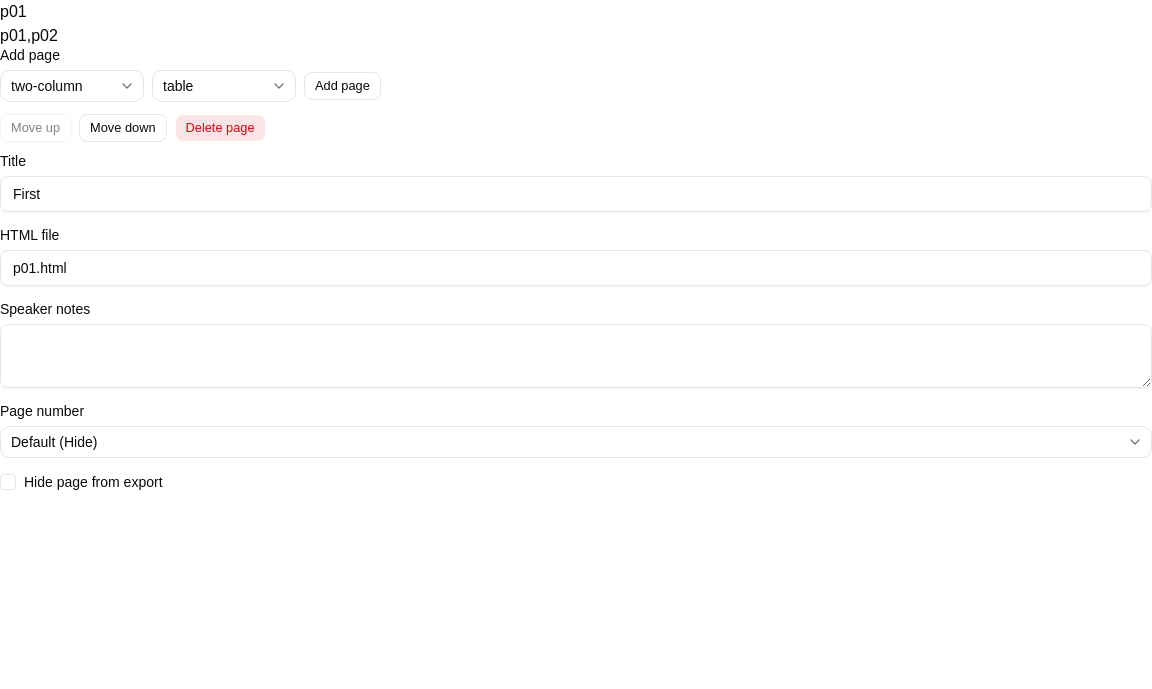
Scenario: workshop page lifecycle › restores a removed metric with Add metric
Click the dropdown named "Add page" at [72, 86], box [0,70,144,102]
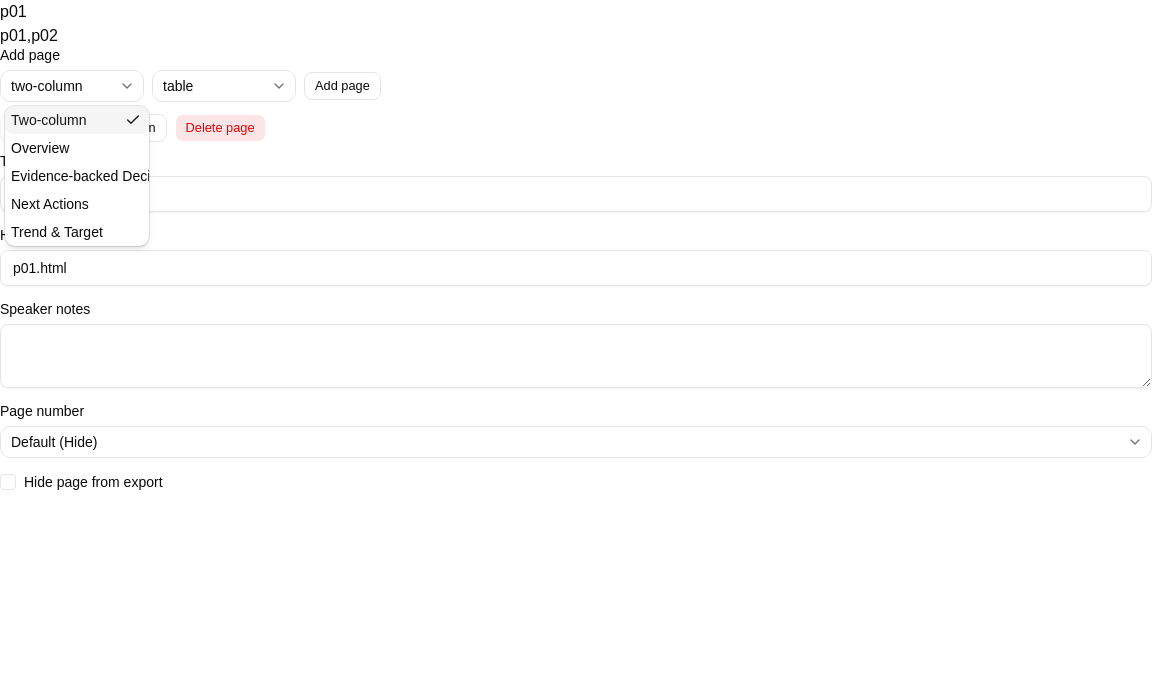
Click the option "Evidence-backed Decision" at [94, 176], box [11,168,176,184]
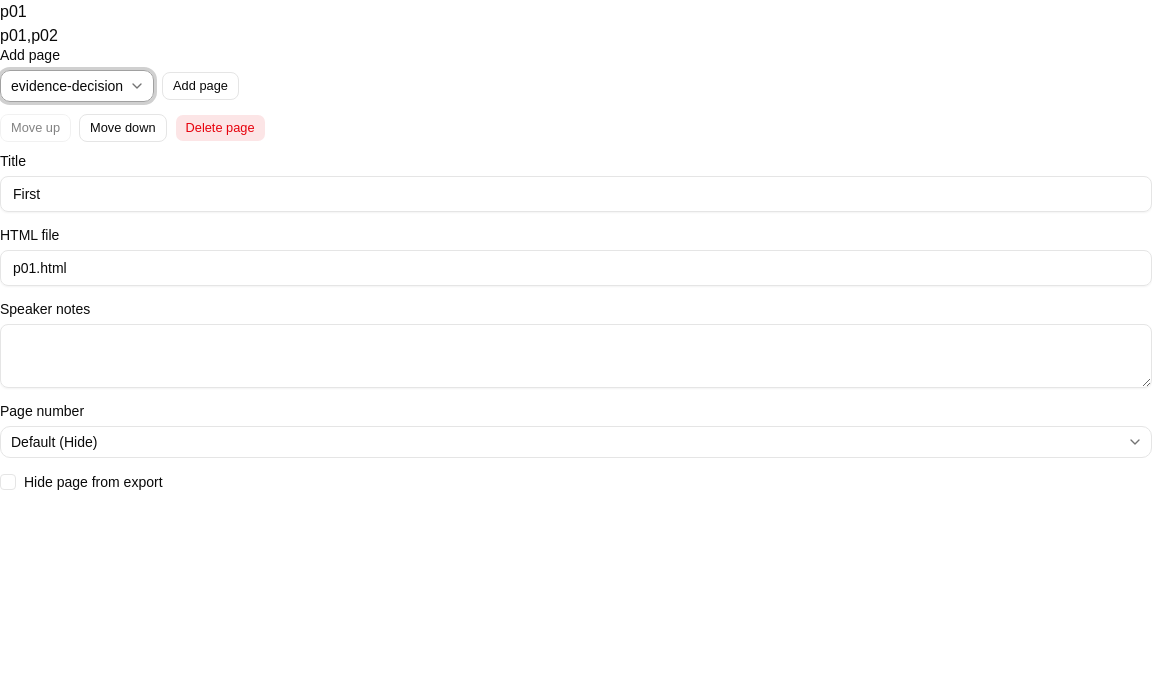
Click the button "Add page" at [200, 86], box [162,72,239,100]
(page scrolled)
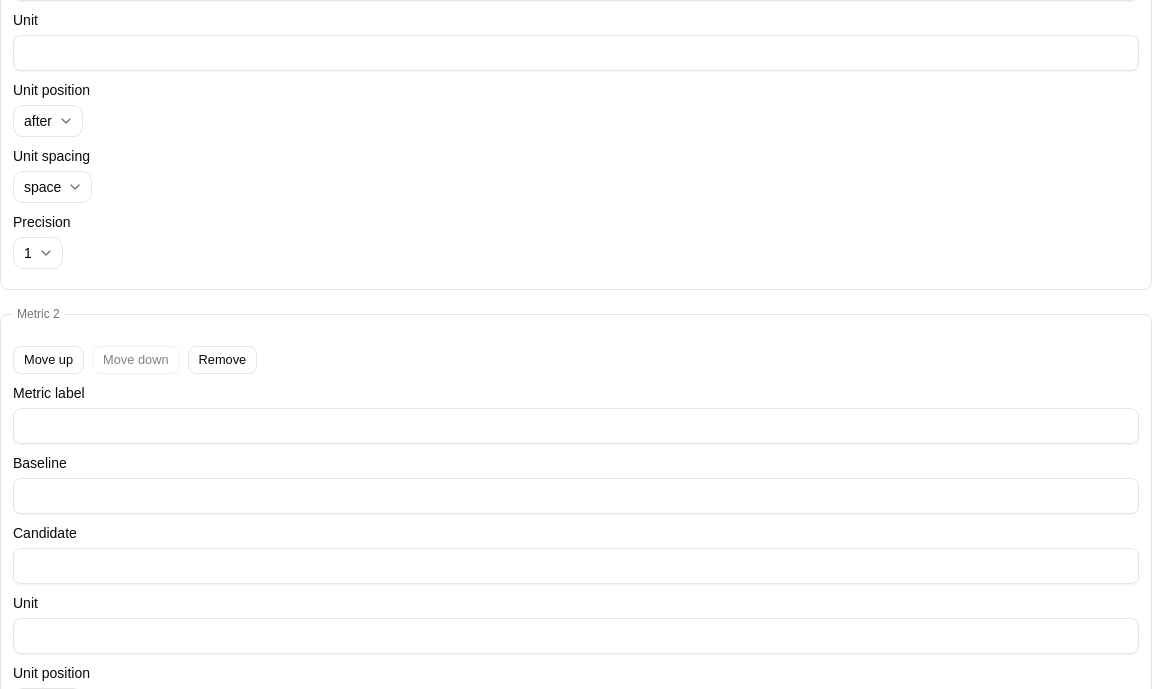
Click the button "Remove" at [222, 360], box [188,346,257,374]
(page scrolled)
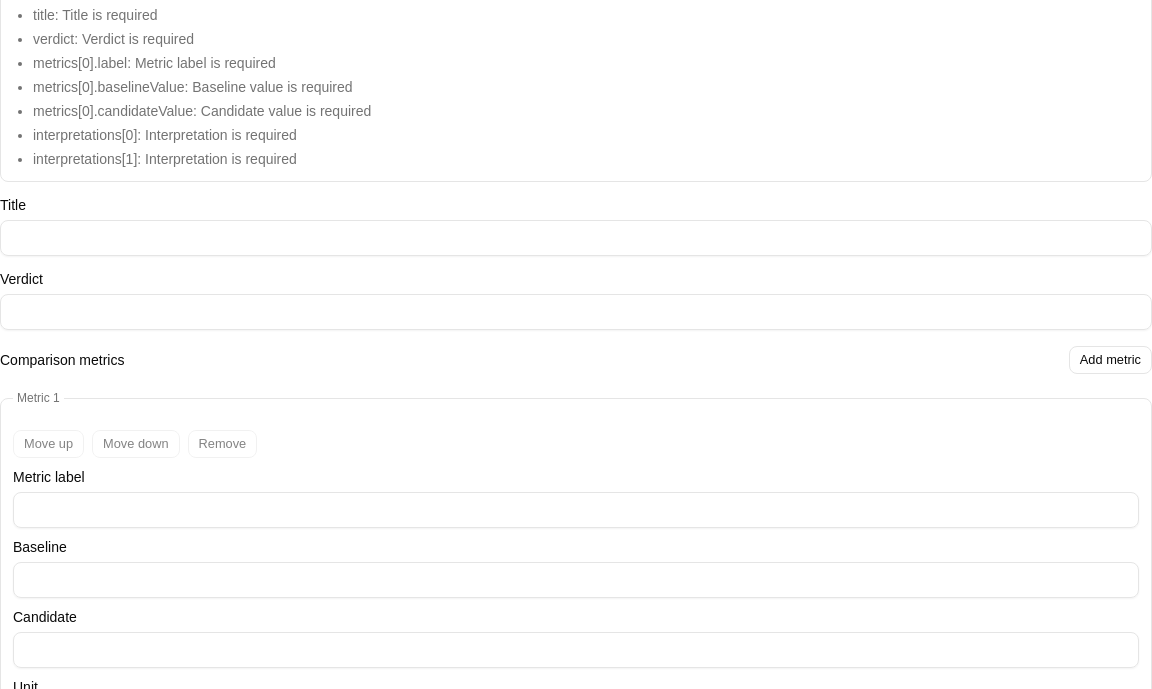
Click the button "Add metric" at [1110, 360], box [1069,346,1151,374]
(page scrolled)
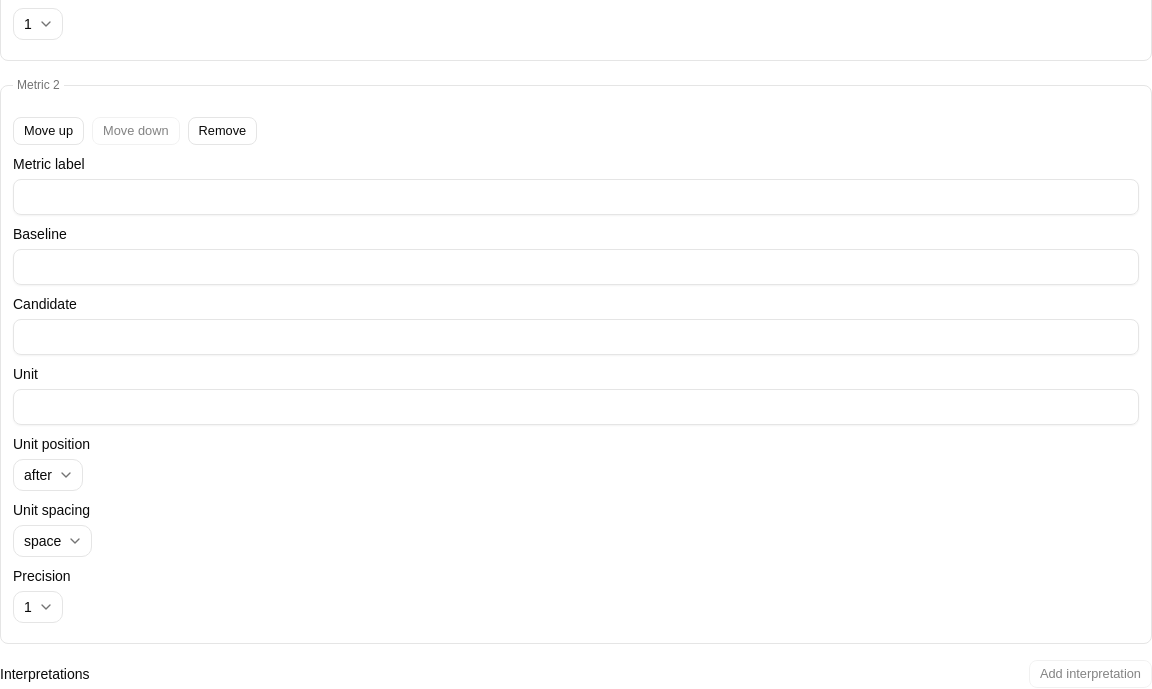
Expected: the element "Metric 2" is shown
